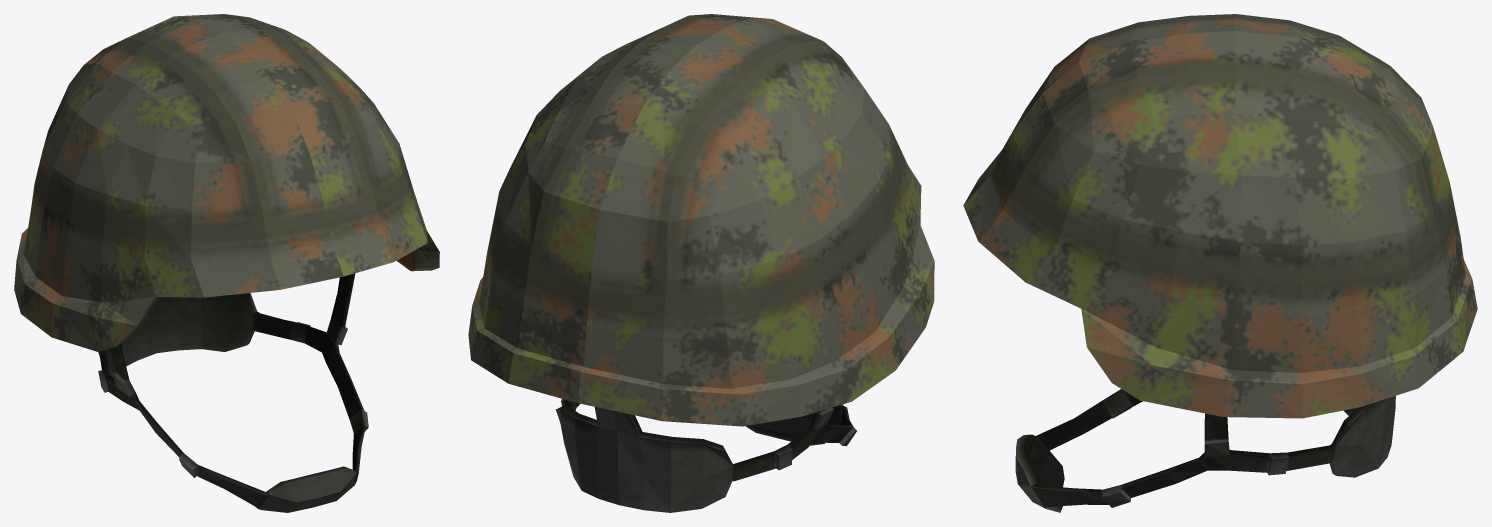
The model's file is helmet_combat.obj.
3 views of the same model, side by side, from view 1: azimuth 30°, elevation 25°; view 2: azimuth 150°, elevation 25°; view 3: azimuth 270°, elevation 25° (orthographic). The views are drawn at different scales.
Parts seen in each view (by area): view 1: Default; view 2: Default; view 3: Default.
Boxes of the visible parts, x1,y1,x2,y2 form: Default: [14, 14, 439, 512]; Default: [468, 14, 934, 512]; Default: [963, 14, 1477, 512].
Size of the model in its own units: 1.59 by 1.79 by 1.79.
